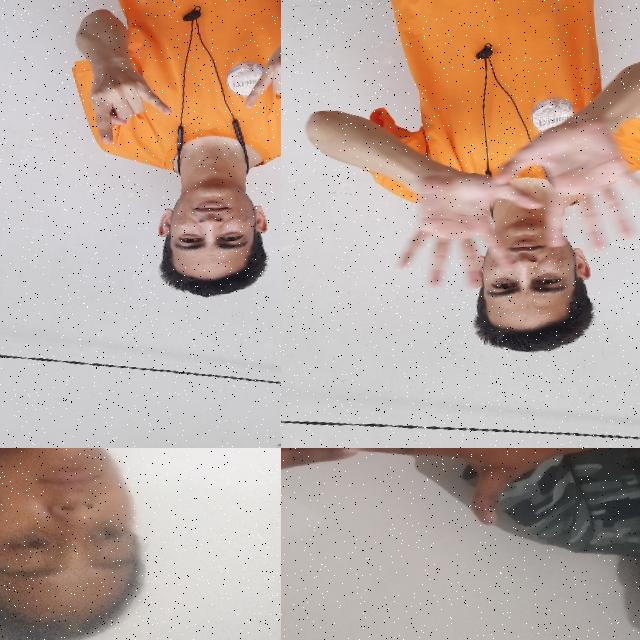Chin Flick: (0, 448, 185, 640)
Corna: (80, 46, 179, 152), (233, 35, 281, 131)
Five Fathers: (281, 448, 573, 553)
Moutza: (378, 154, 552, 308), (486, 97, 640, 268)
